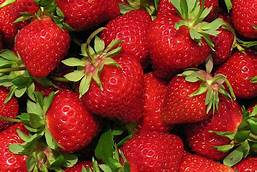Fresa: (78, 46, 151, 128), (36, 85, 113, 157), (144, 11, 215, 83), (12, 9, 74, 84), (155, 66, 222, 129), (97, 5, 157, 70), (111, 128, 187, 172)
